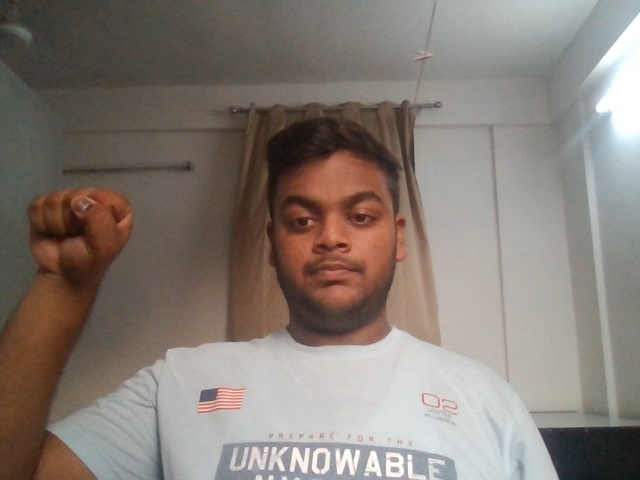Yes: (1, 153, 156, 355)
